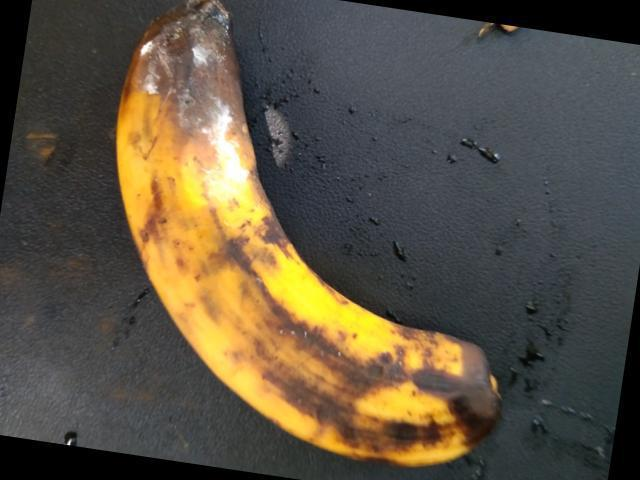overripe: (118, 25, 523, 479)
